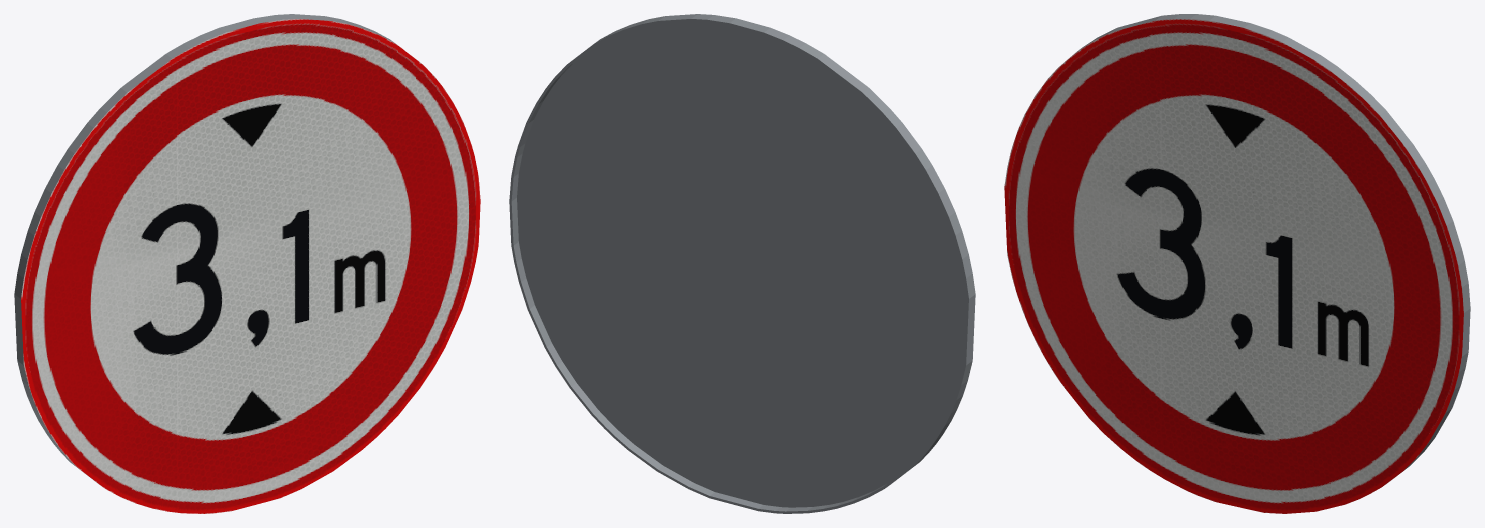
3 renders of one model, left to right at view 1: azimuth 30°, elevation 25°; view 2: azimuth 150°, elevation 25°; view 3: azimuth 330°, elevation 25°, orthographic.
Visible parts, largest first — view 1: cat_5c8cb7f17fb3c5b5; view 2: cat_5c8cb7f17fb3c5b5; view 3: cat_5c8cb7f17fb3c5b5.
Boxes of the visible parts, <box> form: cat_5c8cb7f17fb3c5b5: <box>14,14,480,513</box>; cat_5c8cb7f17fb3c5b5: <box>509,14,975,513</box>; cat_5c8cb7f17fb3c5b5: <box>1004,14,1470,513</box>.
Size of the model in its own units: 0.6 by 0.015 by 0.6.
Materials: 2 (1 with a texture image).
